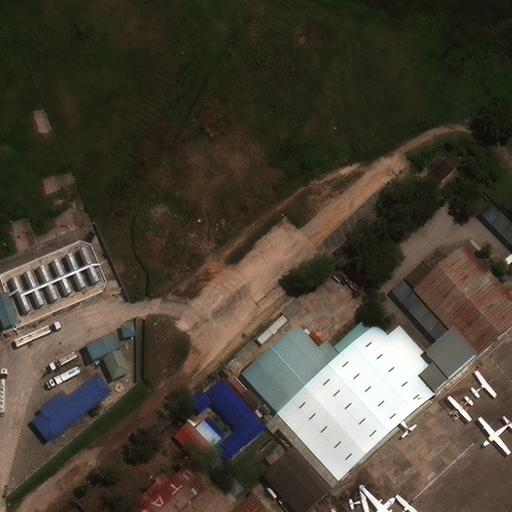Medium Civil Transport: (477, 420, 512, 455), (363, 487, 398, 511)
Small Civil Transport: (473, 370, 497, 395), (446, 398, 470, 422), (349, 484, 369, 511), (397, 494, 419, 511)
